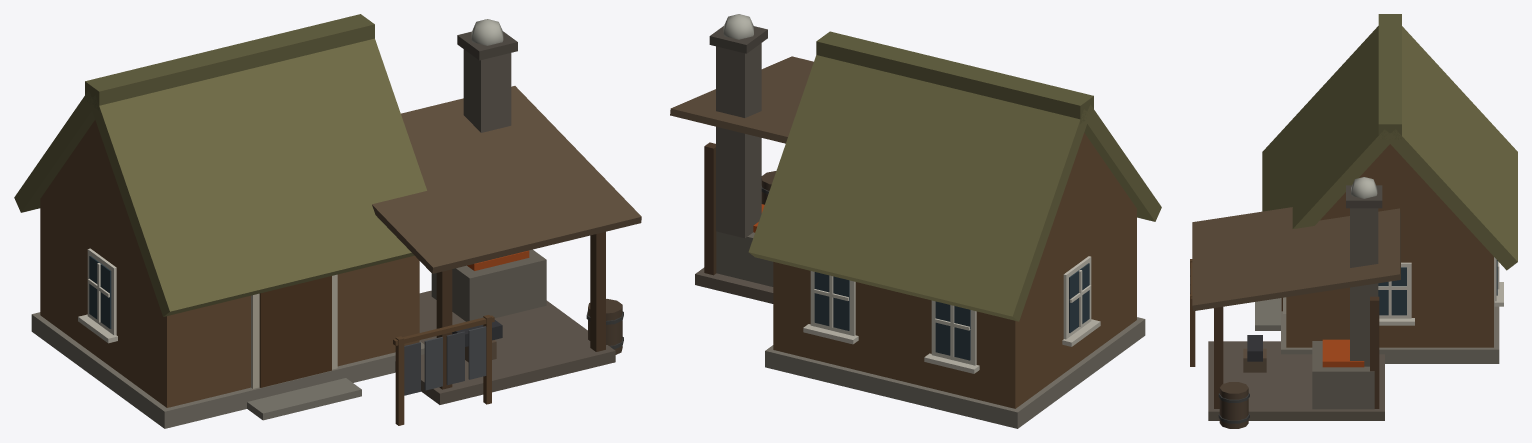
The model's file is procedural_armor_workshop@3.glb.
3 views of the same model, side by side, from view 1: azimuth 30°, elevation 25°; view 2: azimuth 150°, elevation 25°; view 3: azimuth 270°, elevation 25° (orthographic). The views are drawn at different scales.
Parts seen in each view (by area): view 1: part_0, part_4; view 2: part_0, part_4; view 3: part_0, part_4.
Part boxes in pixels (x1,y1,x2,y2): part_0: (14,14,641,428); part_4: (471,19,503,45); part_0: (670,26,1161,428); part_4: (723,14,753,39); part_0: (1190,14,1517,428); part_4: (1351,177,1377,198).
Size of the model in its own units: 7.9 by 5.14 by 6.31.
